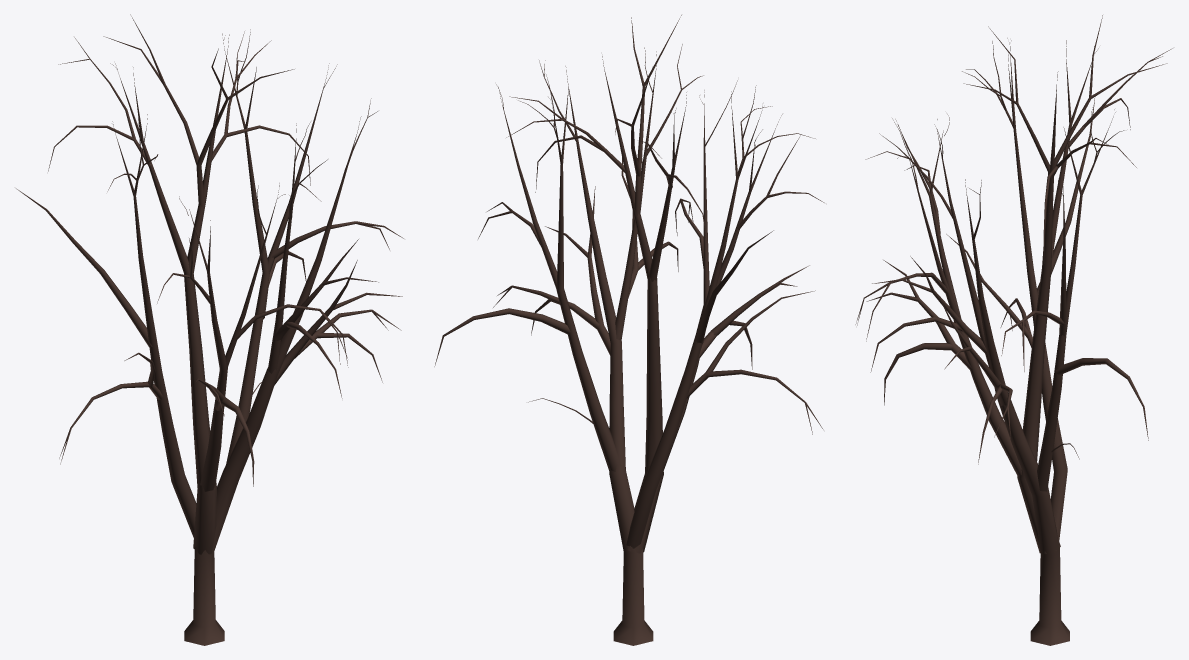
Rendered from Tree.002.fbx.
3 renders of one model, left to right at view 1: azimuth 30°, elevation 25°; view 2: azimuth 150°, elevation 25°; view 3: azimuth 270°, elevation 25°, orthographic. The views are drawn at different scales.
Parts seen in each view (by area): view 1: Tree.002; view 2: Tree.002; view 3: Tree.002.
Part boxes in pixels (bbox=[...]): Tree.002: bbox=[16, 14, 403, 645]; Tree.002: bbox=[434, 15, 824, 645]; Tree.002: bbox=[855, 15, 1172, 645].
Size of the model in its own units: 793 by 650 by 1351.
